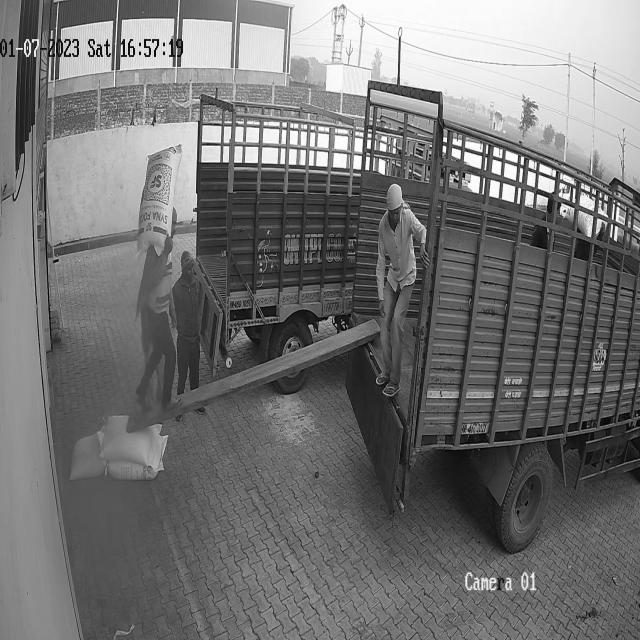sack: (137, 144, 181, 254), (98, 414, 162, 466), (104, 435, 168, 478), (68, 434, 106, 482)
